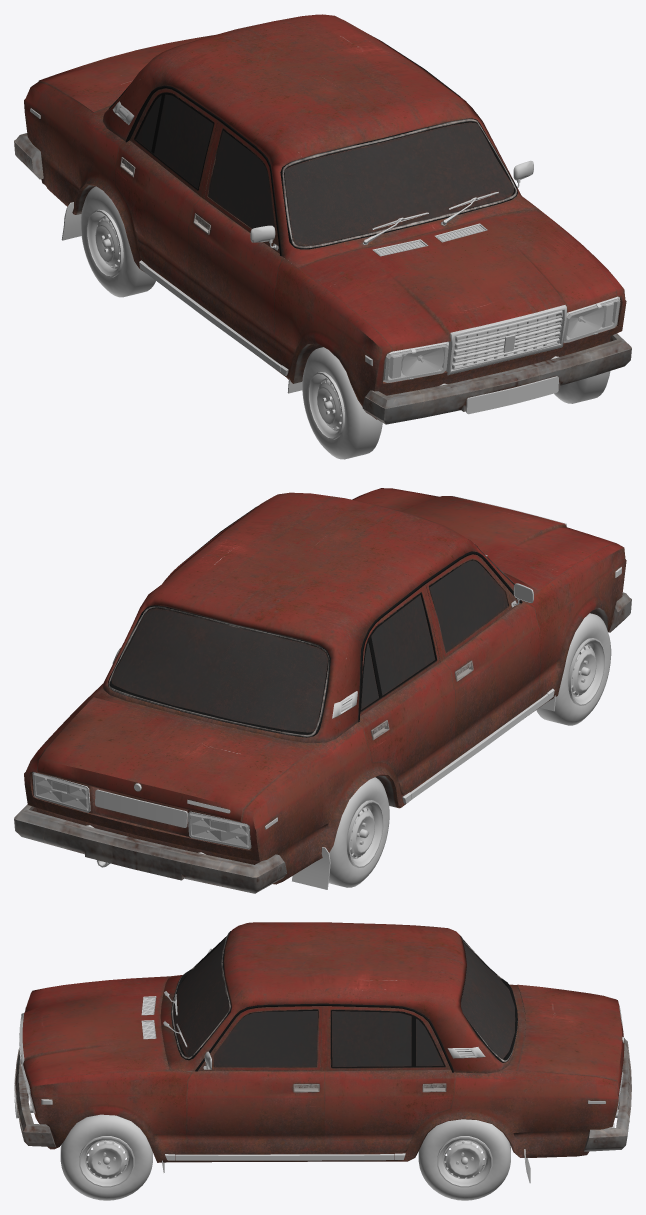
The picture shows the model from 3 angles, top to bottom: view 1: azimuth 30°, elevation 25°; view 2: azimuth 150°, elevation 25°; view 3: azimuth 270°, elevation 25°; orthographic projection. The views are drawn at different scales.
Parts seen in each view (by area): view 1: Car; view 2: Car; view 3: Car.
Part boxes in pixels (left/top/right/bottom): Car: left=14, top=14, right=631, bottom=459; Car: left=14, top=488, right=631, bottom=893; Car: left=14, top=922, right=631, bottom=1200.
Size of the model in its own units: 178 by 148 by 416.
